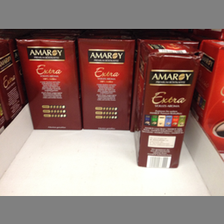coffee: (132, 41, 202, 168), (16, 32, 81, 131), (77, 33, 135, 131)
